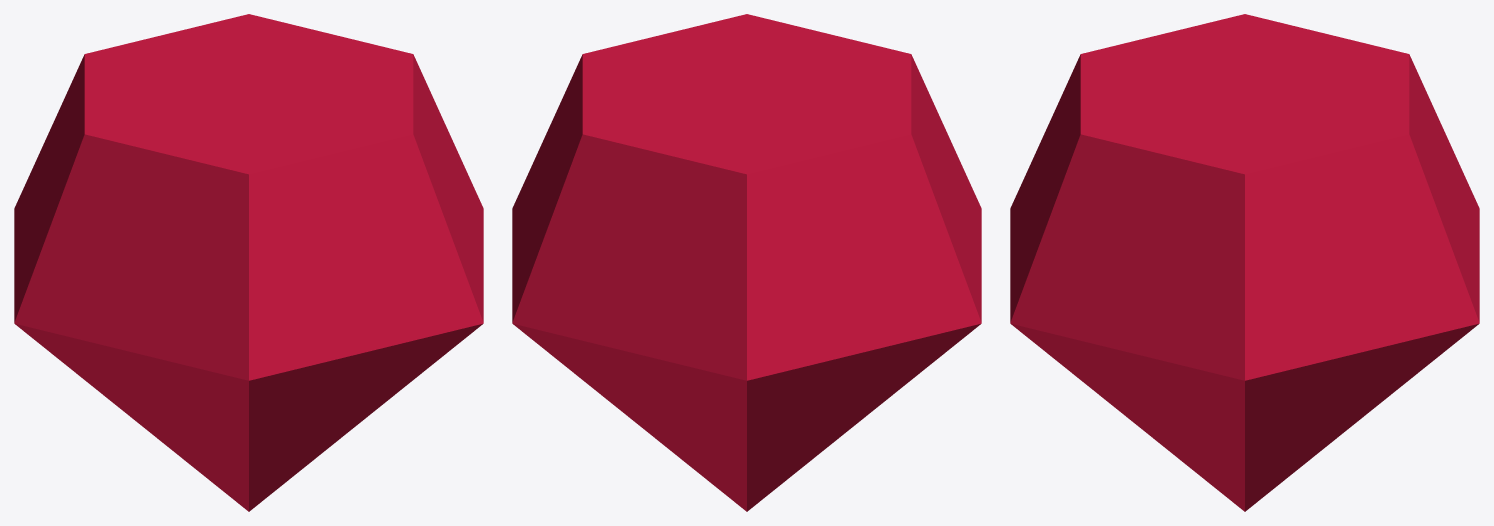
The model's file is gem.glb.
The picture shows the model from 3 angles, left to right: view 1: azimuth 30°, elevation 25°; view 2: azimuth 150°, elevation 25°; view 3: azimuth 270°, elevation 25°; orthographic projection.
Visible parts, largest first — view 1: gem; view 2: gem; view 3: gem.
Part boxes in pixels (x1,y1,x2,y2): gem: (14, 14, 483, 511); gem: (512, 14, 981, 511); gem: (1010, 14, 1479, 511).
Size of the model in its own units: 0.2 by 0.17 by 0.1732.
